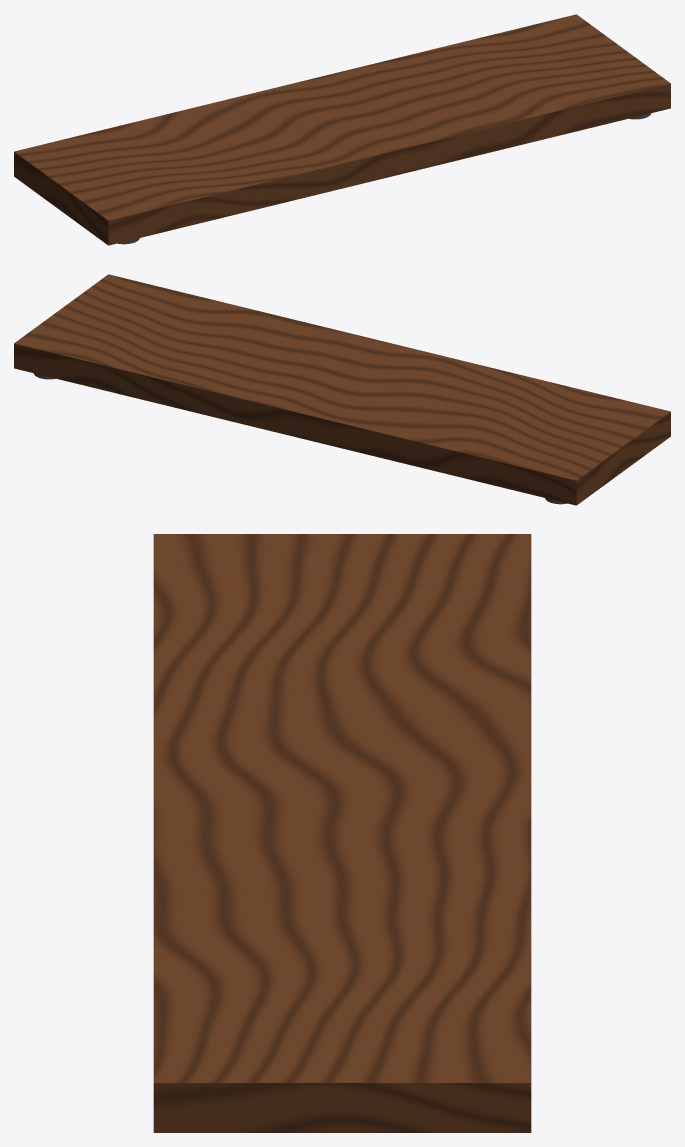
The model's file is cradle_base.glb.
The picture shows the model from 3 angles, top to bottom: view 1: azimuth 30°, elevation 25°; view 2: azimuth 150°, elevation 25°; view 3: azimuth 270°, elevation 25°; orthographic projection. The views are drawn at different scales.
Visible parts, largest first — view 1: cradle_base; view 2: cradle_base; view 3: cradle_base.
Boxes of the visible parts, bbox=[...] form: cradle_base: bbox=[14, 14, 670, 245]; cradle_base: bbox=[14, 274, 670, 505]; cradle_base: bbox=[153, 534, 531, 1132].
Bounding box in the file's own units: 0.33 × 0.017 × 0.096.
Materials: 5 (1 with a texture image).
